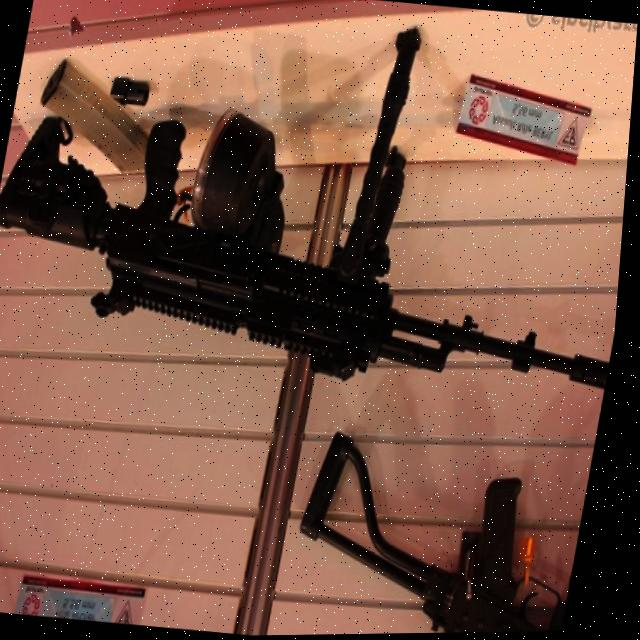firearm: (0, 0, 640, 415), (287, 422, 602, 636)
